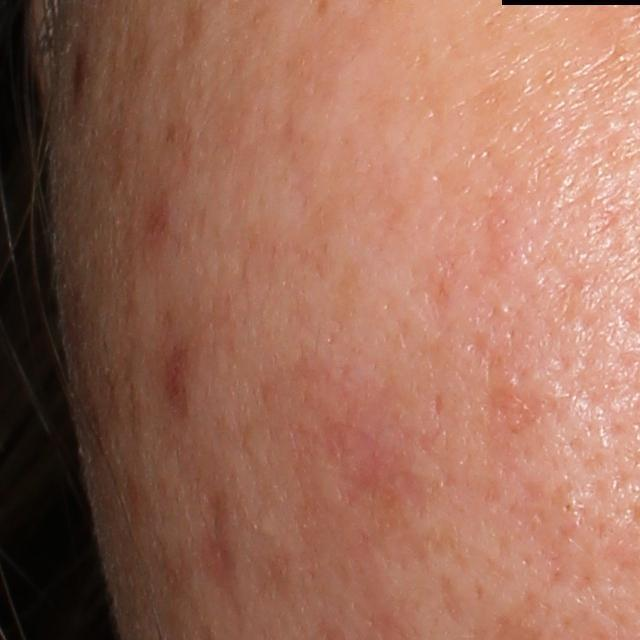atrophic_scar: (200, 492, 230, 577), (438, 568, 466, 634), (431, 389, 448, 420)
